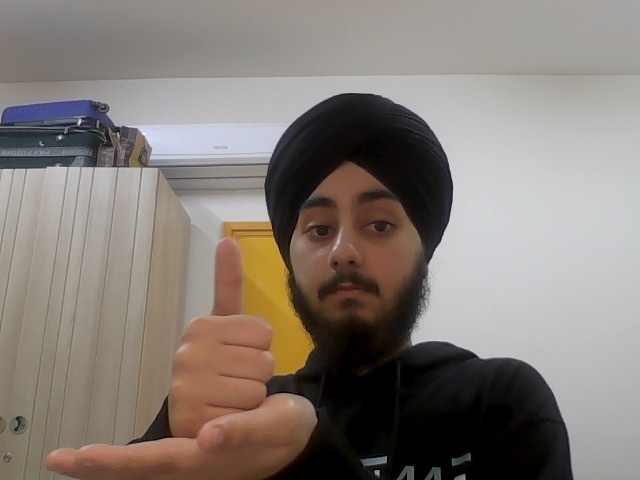Help: (45, 235, 312, 479)
